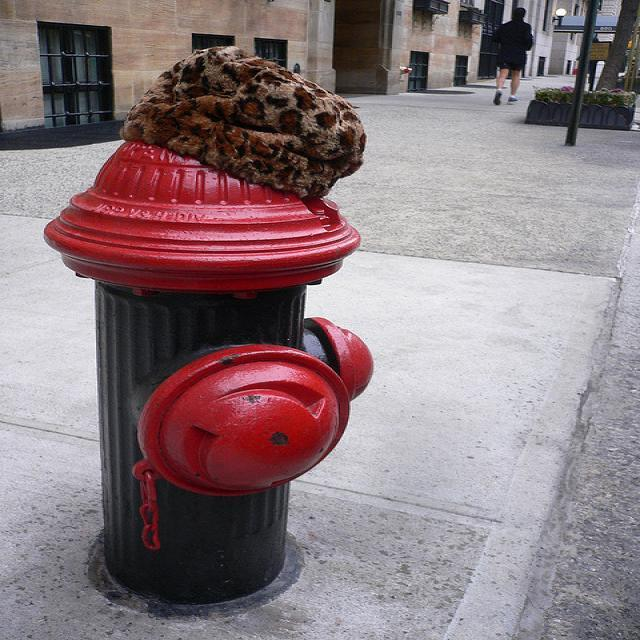fire_hydrant: (49, 136, 368, 619)
